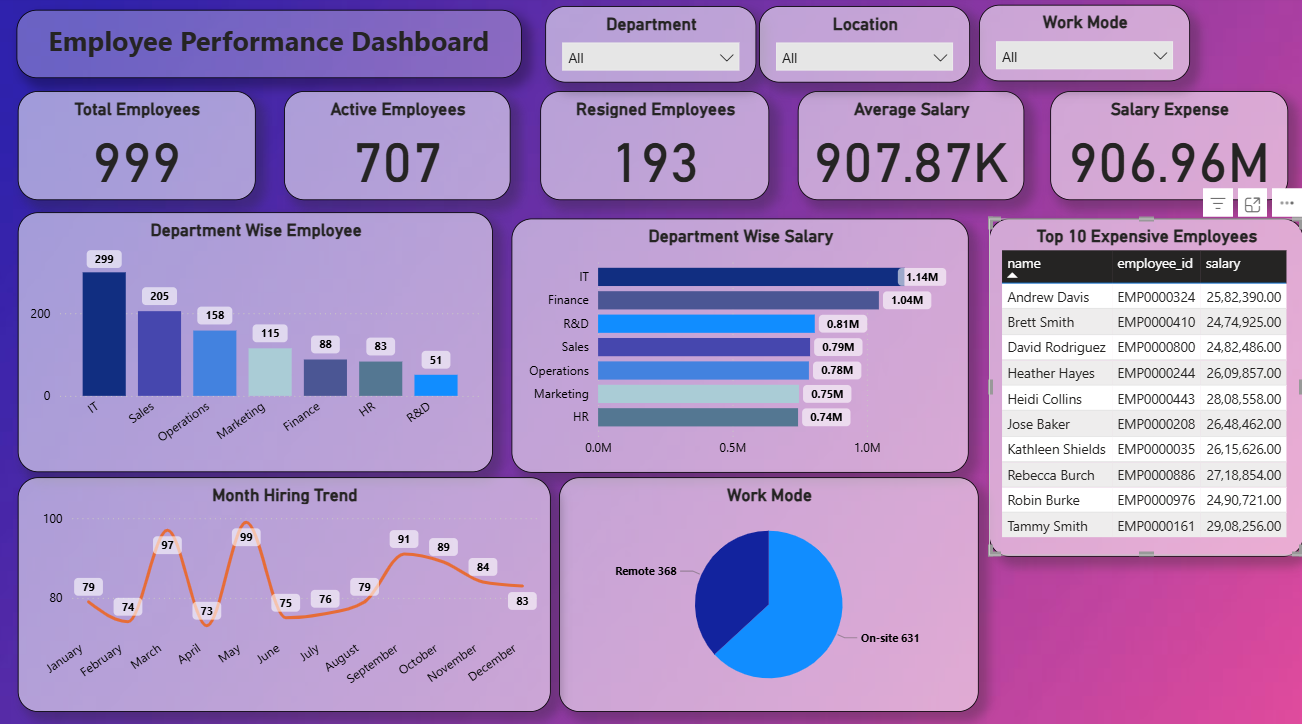

The page's visual inventory and layout, read from the dashboard file:
{"tool":"powerbi","page":{"name":"Page 1","canvas":[1280,720],"ordinal":0},"visuals":[{"type":"textbox","box":[17.2,13.5,495.7,67.5],"z":0},{"type":"card","title":"Total Employees","fields":{"Values":["mnc_emp.Total_emp"]},"box":[17.8,93.3,233.3,107],"z":1000},{"type":"card","title":"Active Employees","fields":{"Values":["mnc_emp.Active_Status"]},"box":[279.9,93.3,222.3,107],"z":2000},{"type":"card","title":"Resigned Employees","fields":{"Values":["mnc_emp.Resigned_emp"]},"box":[531,93.3,225,107],"z":3000},{"type":"card","title":"Average Salary","fields":{"Values":["Avg(mnc_emp.salary)"]},"box":[783.5,93.3,222.3,107],"z":4000},{"type":"card","title":"Salary Expense","fields":{"Values":["Sum(mnc_emp.salary)"]},"box":[1031.9,93.3,233.3,107],"z":5000},{"type":"barChart","title":"Department Wise Salary","fields":{"Category":["mnc_emp.department"],"Y":["Avg(mnc_emp.salary)"]},"box":[503.6,218.2,448.7,249.7],"z":6000},{"type":"clusteredColumnChart","title":"Department Wise Employee","fields":{"Category":["mnc_emp.department"],"Y":["CountNonNull(mnc_emp.employee_id)"]},"box":[17.8,212.7,466.6,255.2],"z":7000},{"type":"pieChart","title":"Work Mode","fields":{"Category":["mnc_emp.work_mode"],"Y":["CountNonNull(mnc_emp.employee_id)"]},"box":[550.3,472,411.7,230.5],"z":8000},{"type":"lineChart","title":"Month Hiring Trend","fields":{"Category":["mnc_emp.hire_date.Variation.Date Hierarchy.Month"],"Y":["CountNonNull(mnc_emp.employee_id)"]},"box":[17.8,472,522.8,230.5],"z":9000},{"type":"tableEx","title":"Top 10 Expensive Employees","fields":{"Values":["mnc_emp.name","mnc_emp.employee_id","mnc_emp.salary"]},"box":[971.5,218.2,308.7,332.1],"z":10000},{"type":"slicer","title":"Department","fields":{"Values":["mnc_emp.department"]},"box":[536.5,9.6,207.2,75.5],"z":10001},{"type":"slicer","title":"Location","fields":{"Values":["mnc_emp.location"]},"box":[746.5,9.6,207.2,75.5],"z":10002},{"type":"slicer","title":"Work Mode","fields":{"Values":["mnc_emp.work_mode"]},"box":[961.9,8.2,207.2,75.5],"z":10003}]}

Visuals, with their boxes in screenshot pixels (x1, y1, x2, y2), scaled from the page's 1280x720 canvas onto the 1302x724 screenshot:
textbox: 17, 14, 522, 81
"Total Employees" card: 18, 94, 255, 201
"Active Employees" card: 285, 94, 511, 201
"Resigned Employees" card: 540, 94, 769, 201
"Average Salary" card: 797, 94, 1023, 201
"Salary Expense" card: 1050, 94, 1287, 201
"Department Wise Salary" barChart: 512, 219, 969, 470
"Department Wise Employee" clusteredColumnChart: 18, 214, 493, 470
"Work Mode" pieChart: 560, 475, 979, 706
"Month Hiring Trend" lineChart: 18, 475, 550, 706
"Top 10 Expensive Employees" tableEx: 988, 219, 1301, 553
"Department" slicer: 546, 10, 756, 86
"Location" slicer: 759, 10, 970, 86
"Work Mode" slicer: 978, 8, 1189, 84
